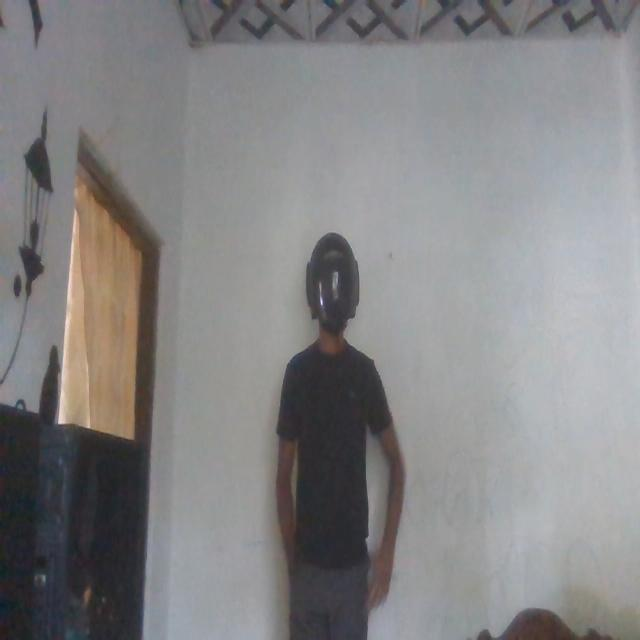Helmet_Wearer: (302, 229, 366, 337)
Person: (275, 229, 399, 640)
